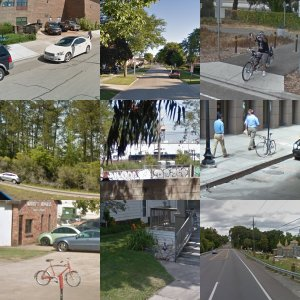汽車: (248, 257, 299, 284), (121, 173, 147, 194), (144, 252, 168, 265), (259, 58, 276, 70)
消防栓: (12, 1, 75, 100), (230, 100, 273, 174), (31, 124, 74, 197)
紅綠燈: (26, 211, 69, 258)
